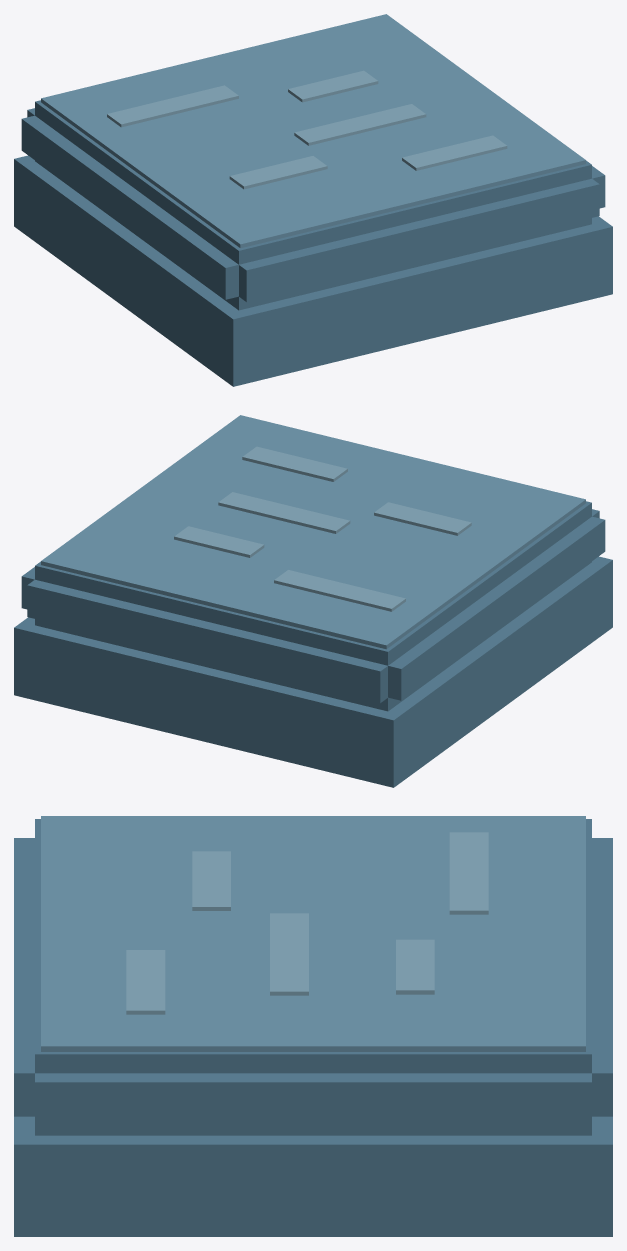
File: Block_Sea.glb
3 renders of one model, top to bottom at view 1: azimuth 30°, elevation 25°; view 2: azimuth 150°, elevation 25°; view 3: azimuth 270°, elevation 25°, orthographic. The views are drawn at different scales.
Visible parts, largest first — view 1: geometry_0; view 2: geometry_0; view 3: geometry_0.
Part boxes in pixels (<box>): geometry_0: <box>14,14,612,386</box>; geometry_0: <box>14,415,612,787</box>; geometry_0: <box>14,816,612,1236</box>.
Size of the model in its own units: 2 by 0.675 by 2.
